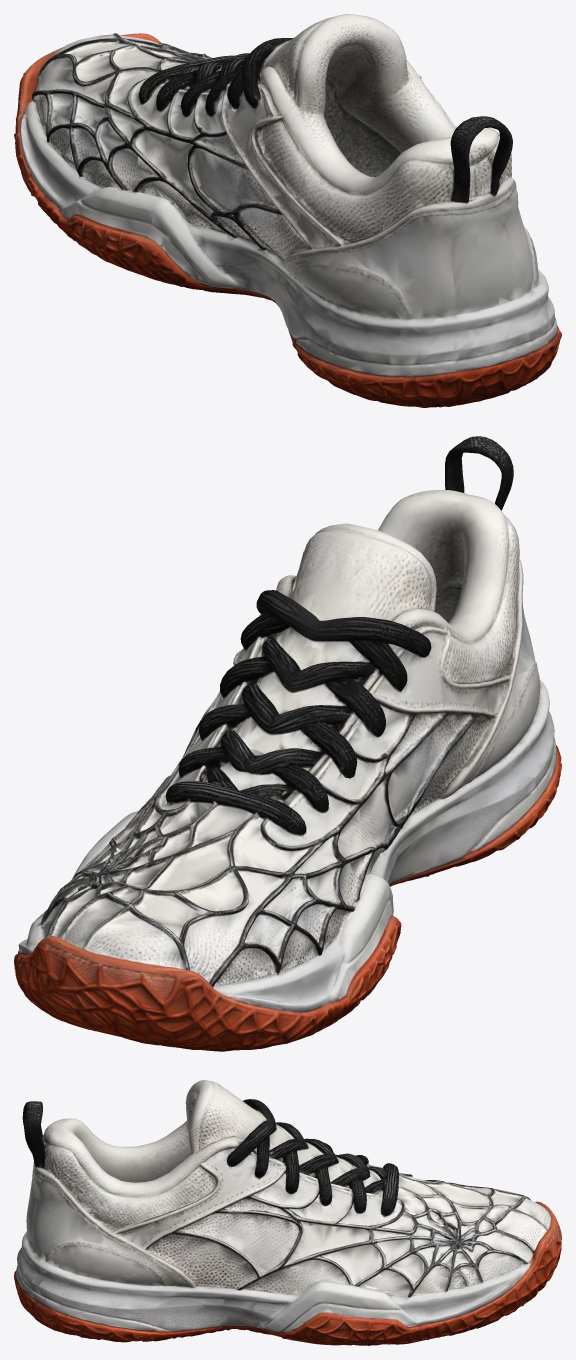
Rendered from spider.glb.
The picture shows the model from 3 angles, top to bottom: view 1: azimuth 30°, elevation 25°; view 2: azimuth 150°, elevation 25°; view 3: azimuth 270°, elevation 25°; orthographic projection. The views are drawn at different scales.
Parts seen in each view (by area): view 1: tripo_node_c619c4e6-04f2-41f8-aa35-ff98f97b7f0f; view 2: tripo_node_c619c4e6-04f2-41f8-aa35-ff98f97b7f0f; view 3: tripo_node_c619c4e6-04f2-41f8-aa35-ff98f97b7f0f.
Part boxes in pixels (<box>): tripo_node_c619c4e6-04f2-41f8-aa35-ff98f97b7f0f: <box>14,14,561,407</box>; tripo_node_c619c4e6-04f2-41f8-aa35-ff98f97b7f0f: <box>14,436,561,1051</box>; tripo_node_c619c4e6-04f2-41f8-aa35-ff98f97b7f0f: <box>14,1080,561,1345</box>.
Size of the model in its own units: 0.4204 by 0.4415 by 1.
Materials: 1 (1 with a texture image).
